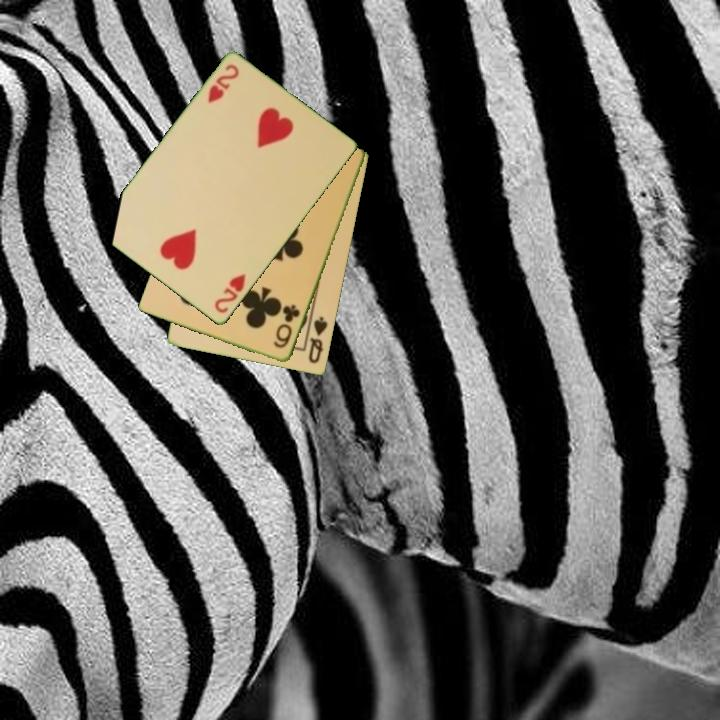2h: (211, 271, 249, 317), (204, 61, 242, 107)
6c: (270, 301, 303, 351)
Qs: (305, 313, 331, 367)
